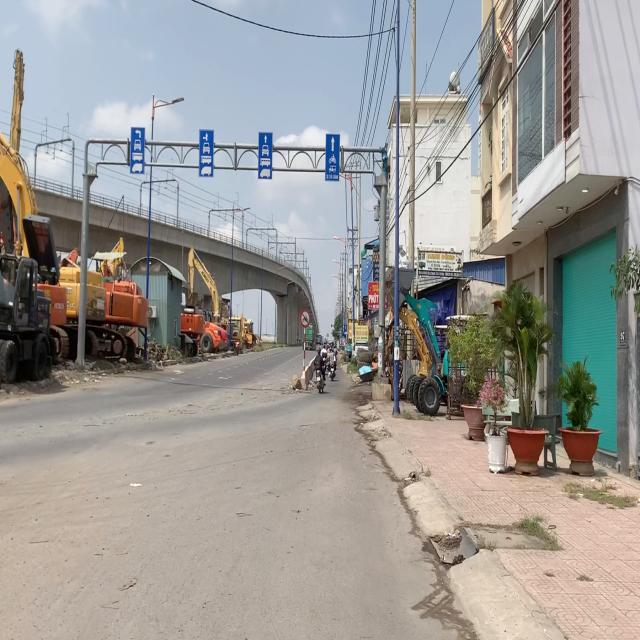Cam con lai: (300, 308, 311, 328)
